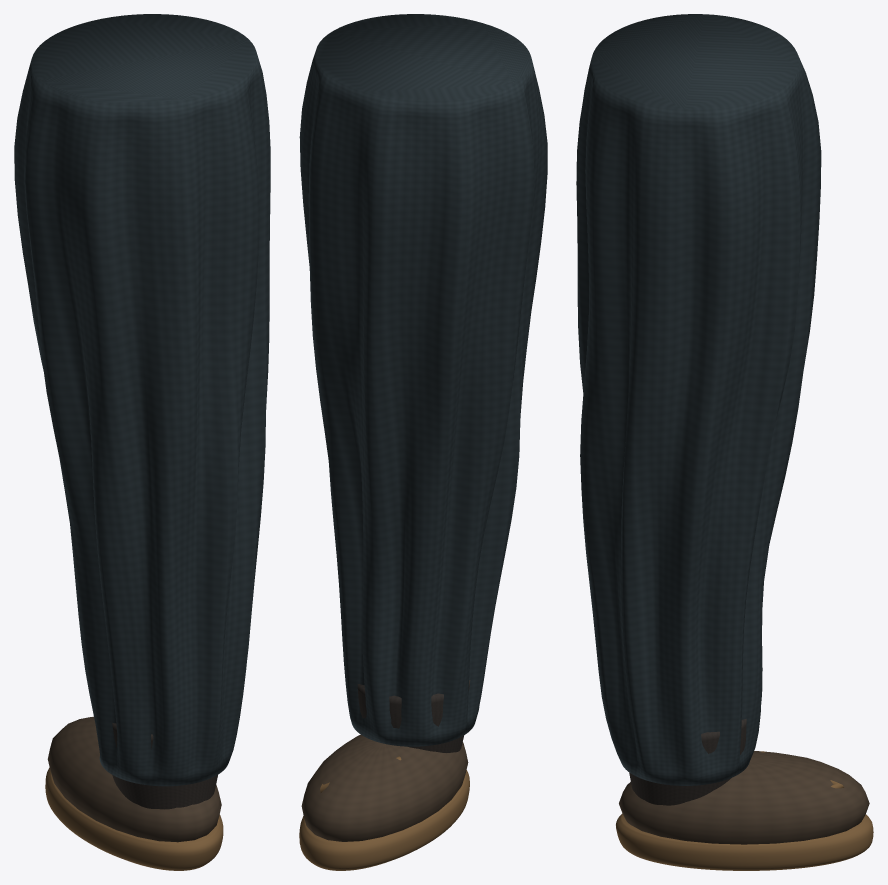
The model's file is PilgrimRightLeg.glb.
3 renders of one model, left to right at view 1: azimuth 30°, elevation 25°; view 2: azimuth 150°, elevation 25°; view 3: azimuth 270°, elevation 25°, orthographic. The views are drawn at different scales.
Parts seen in each view (by area): view 1: PilgrimRightLeg; view 2: PilgrimRightLeg; view 3: PilgrimRightLeg.
Part boxes in pixels (<box>): PilgrimRightLeg: <box>14,14,270,870</box>; PilgrimRightLeg: <box>299,14,547,870</box>; PilgrimRightLeg: <box>576,14,873,870</box>.
Size of the model in its own units: 0.2663 by 0.876 by 0.303.
Materials: 4 (3 with a texture image).
